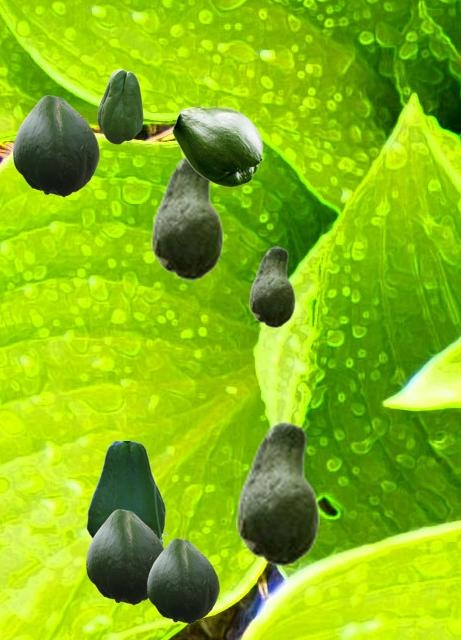sayote: (236, 421, 318, 566), (151, 154, 222, 280), (13, 95, 98, 196), (86, 441, 167, 544), (86, 509, 163, 604), (172, 106, 262, 186), (147, 538, 218, 623), (249, 246, 294, 327), (97, 69, 142, 143)
